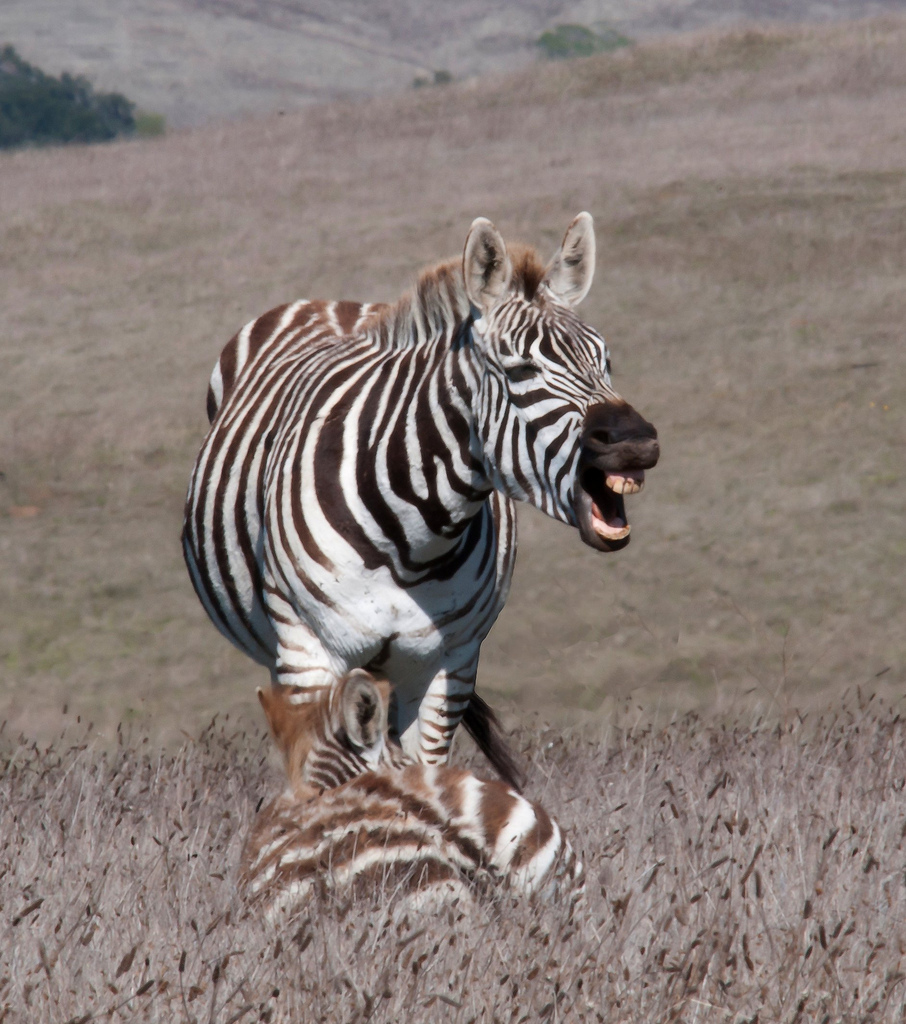zebra: (181, 224, 663, 764)
